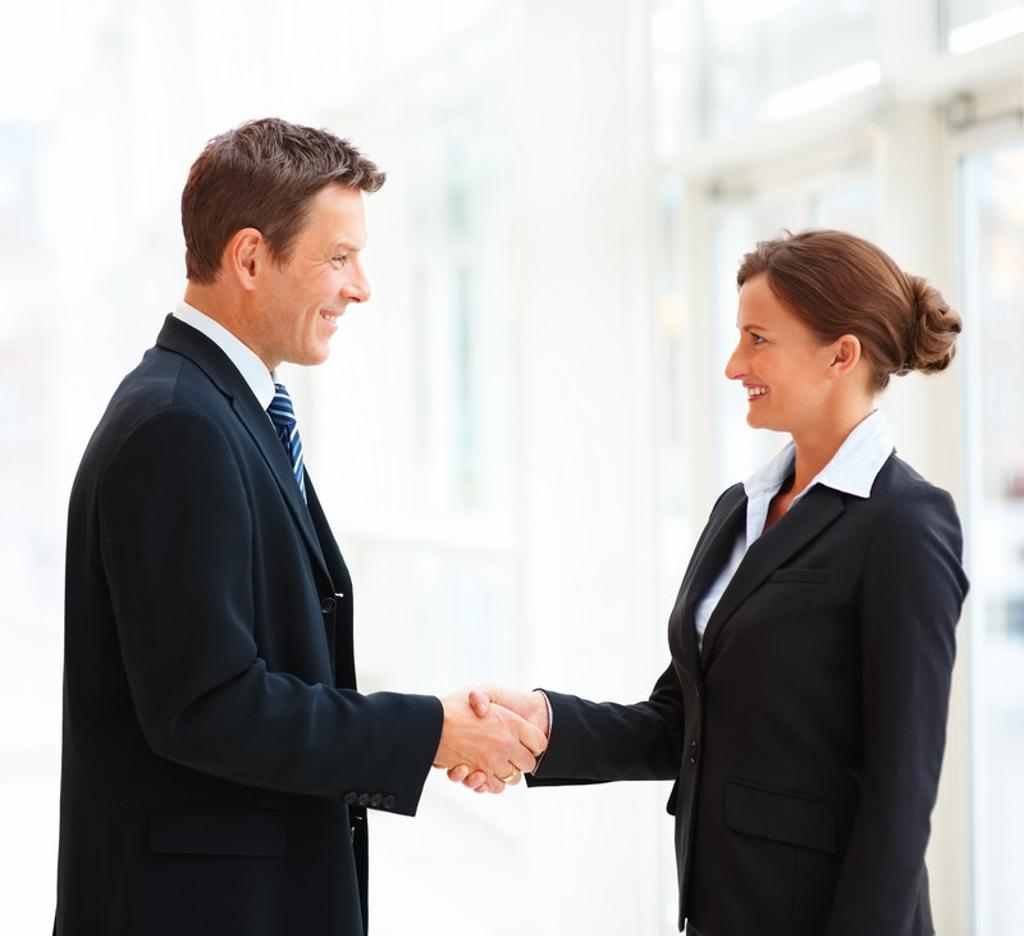face: (296, 182, 368, 364), (726, 274, 800, 428)
